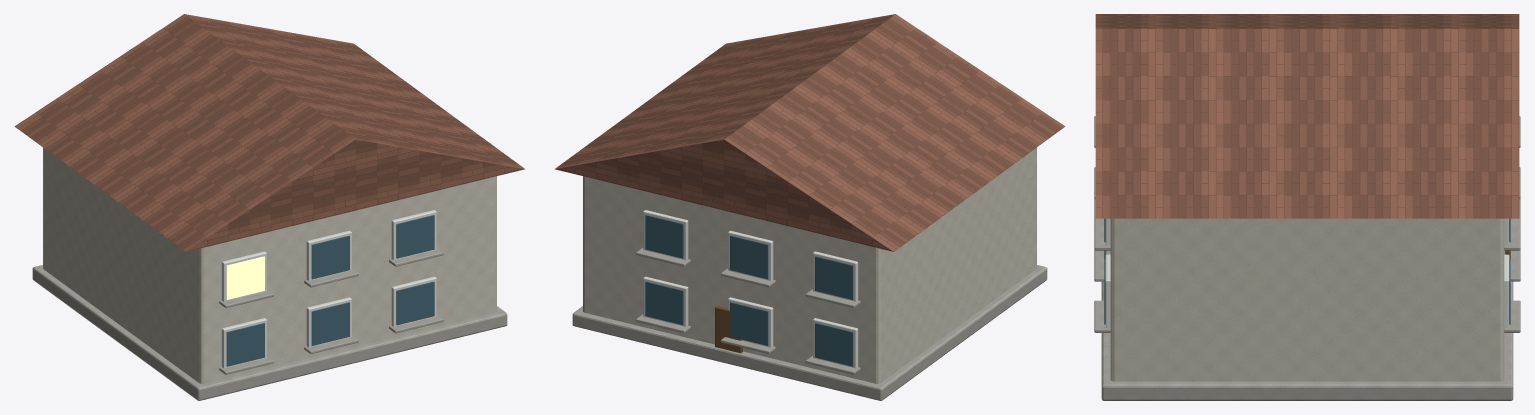
The model's file is mc_house.glb.
3 renders of one model, left to right at view 1: azimuth 30°, elevation 25°; view 2: azimuth 150°, elevation 25°; view 3: azimuth 270°, elevation 25°, orthographic. The views are drawn at different scales.
Visible parts, largest first — view 1: mc_house__Geometry; view 2: mc_house__Geometry; view 3: mc_house__Geometry.
Boxes of the visible parts, x1,y1,x2,y2 form: mc_house__Geometry: (14,14,524,400); mc_house__Geometry: (555,14,1065,400); mc_house__Geometry: (1094,14,1520,400).
Bounding box in the file's own units: 16 × 10.2 × 14.07.
9 materials, 4 textured.
